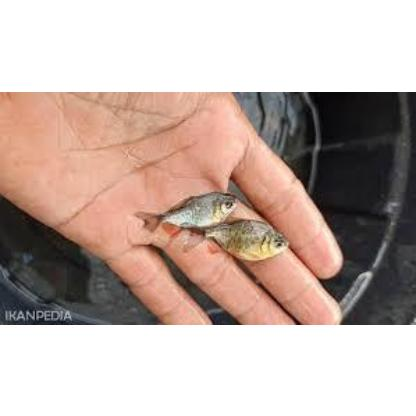ikan-pacu: (204, 220, 284, 260), (160, 188, 238, 224)
